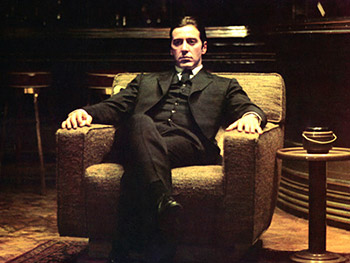chairs: (57, 72, 288, 247)
